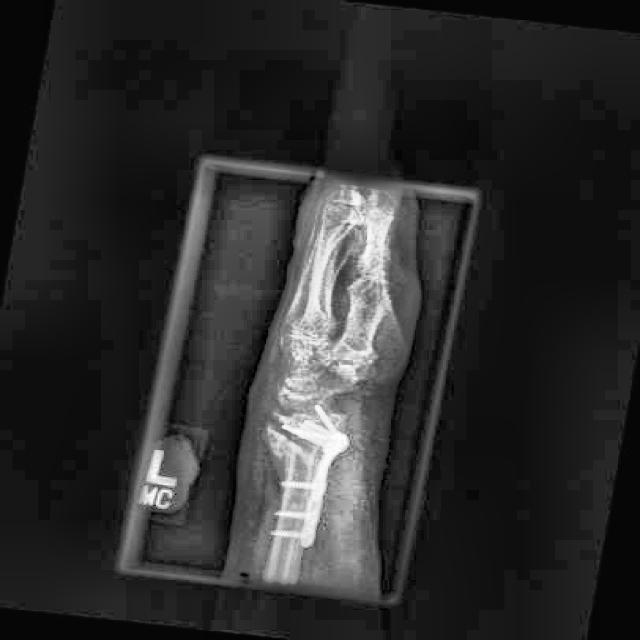wrist positive: (251, 389, 339, 483)
